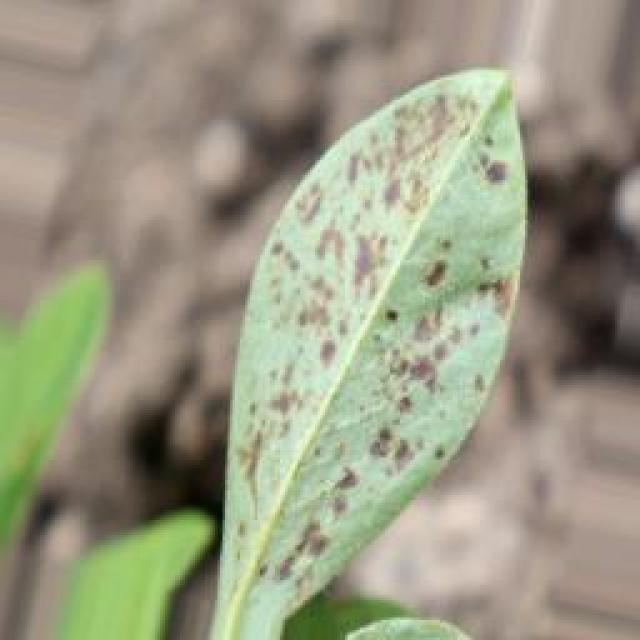Whitefly: (198, 66, 524, 600)
